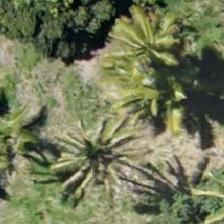coconut_tree: (51, 110, 141, 200), (101, 0, 191, 88)
